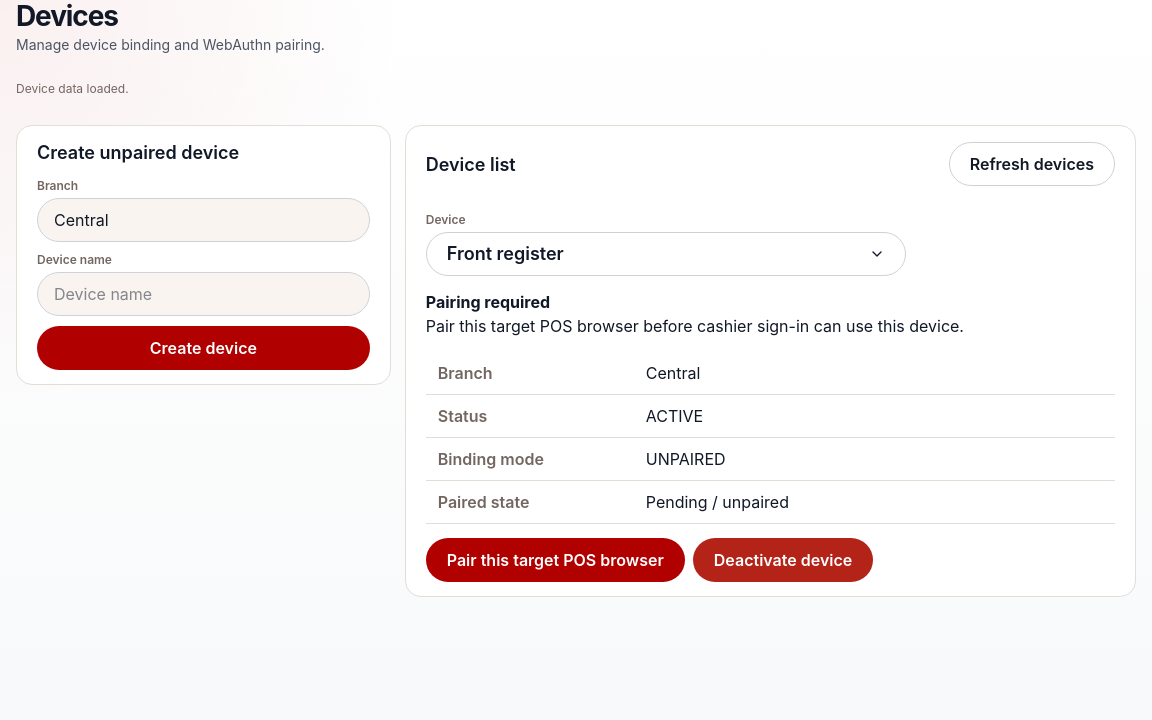
Test case: DeviceManagement › shows pairing errors inside the confirmation dialog until dismissed
This screenshot has width=1152, height=720.
Click the button "Pair this target POS browser".
click(555, 560)  # box [426,538,685,582]
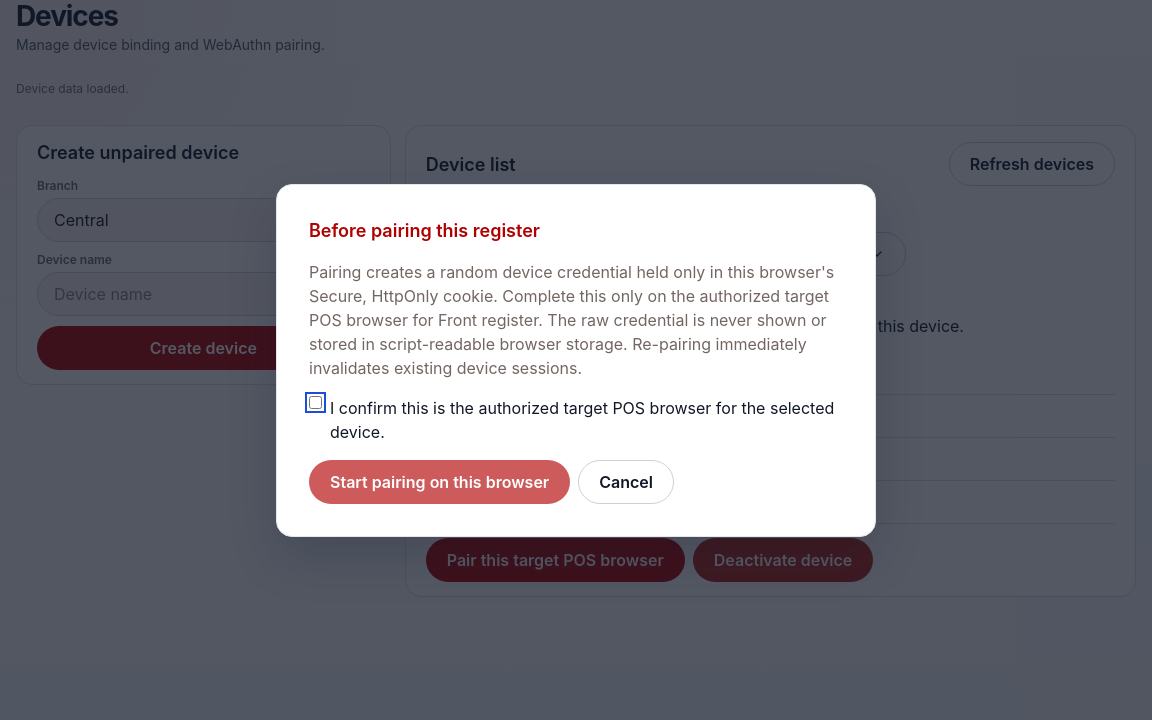
Click the checkbox labelled "I confirm this is the authorized target POS browser".
click(316, 402)  # box [309,396,322,408]
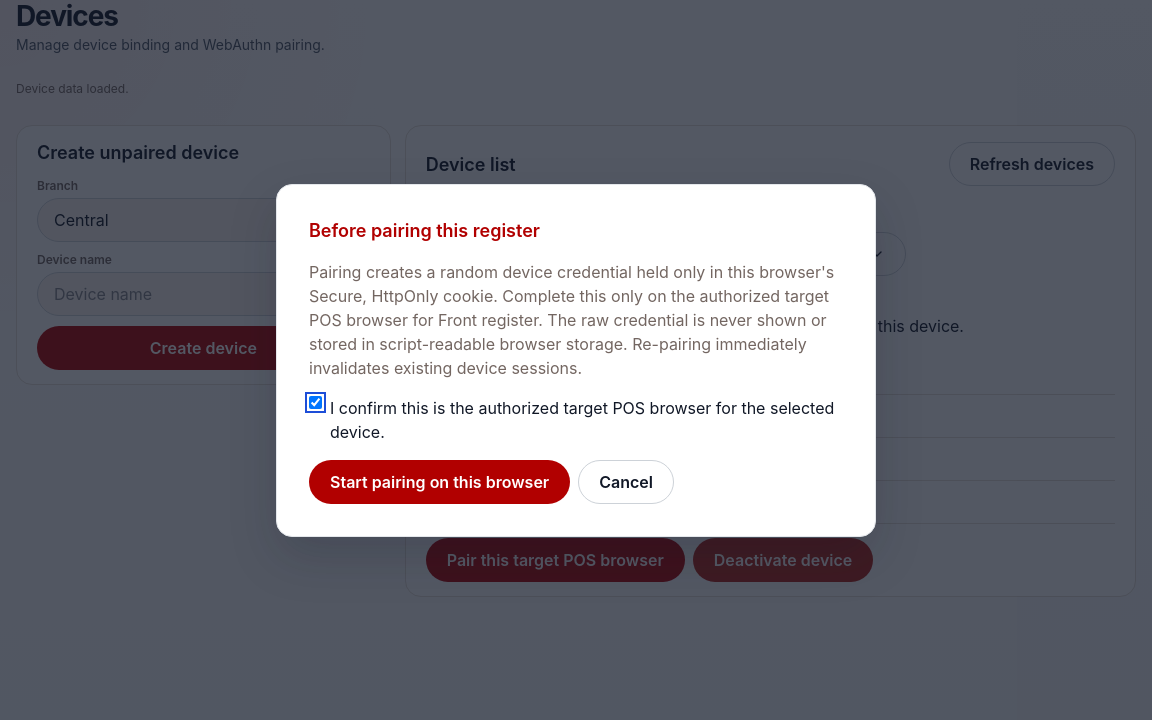
Click the button "Start pairing on this browser".
click(440, 482)  # box [309,460,570,504]
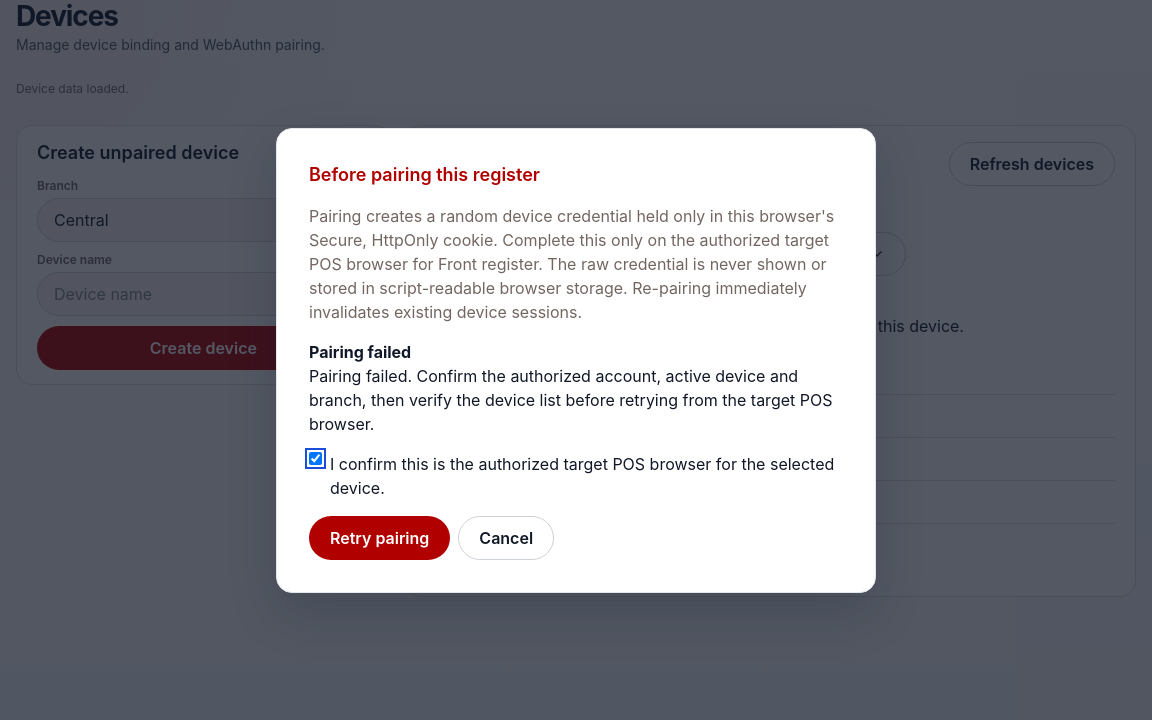
Expected: the dialog "Before pairing this register" is shown, [276,128,876,592]
Expected: the text "Pairing failed. Confirm the authorized account" is shown, [309,366,832,434]
Expected: the button "Retry pairing" is shown, [309,516,450,560]
Click the button "Cancel".
click(506, 538)  # box [458,516,554,560]
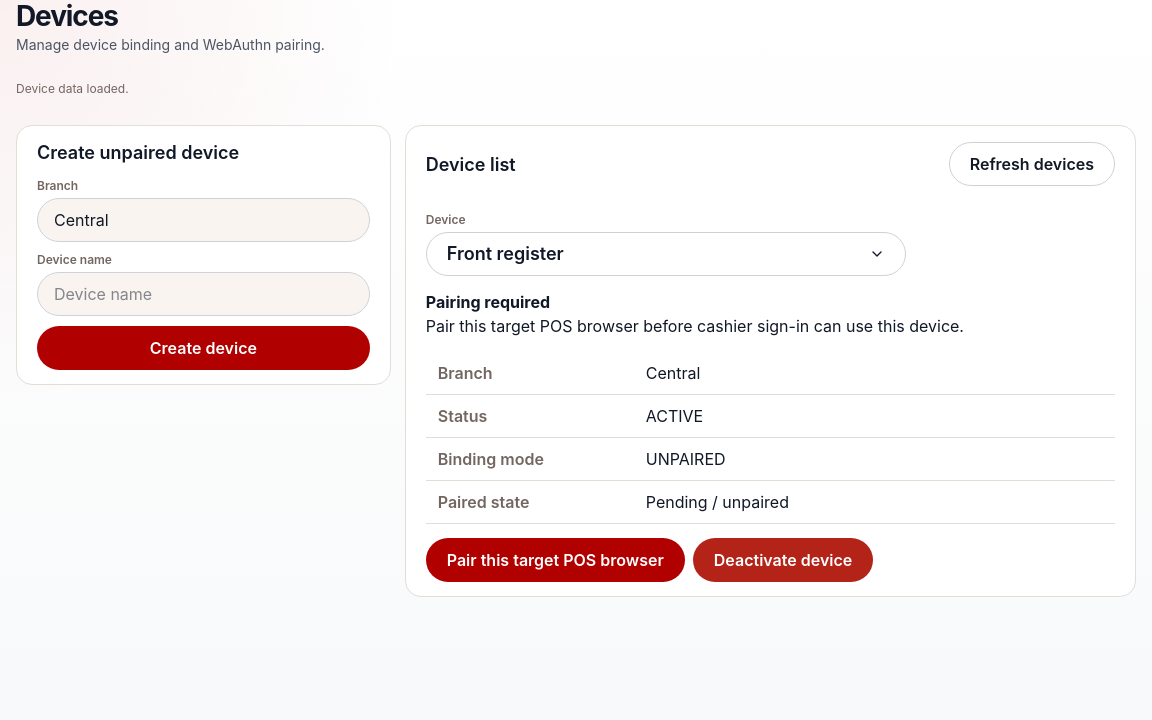
Expected: the dialog is gone
